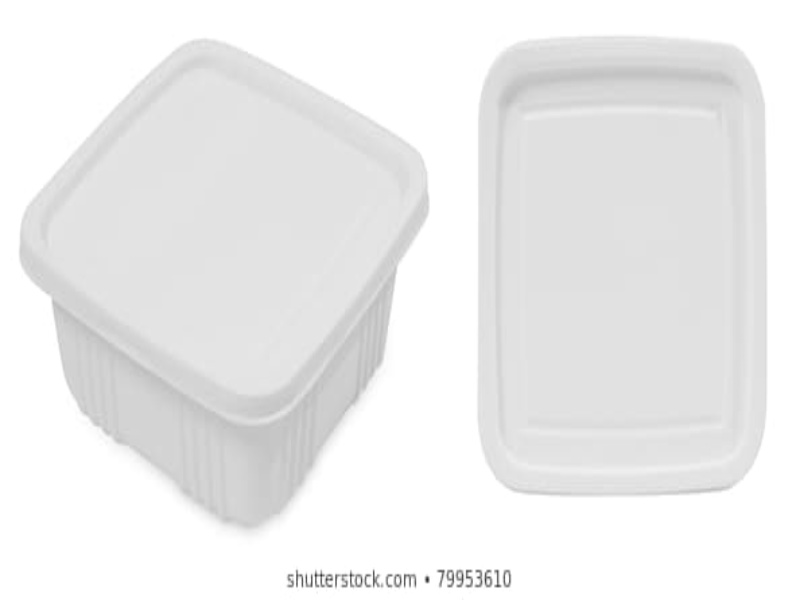plastic-container: (26, 35, 441, 529)
